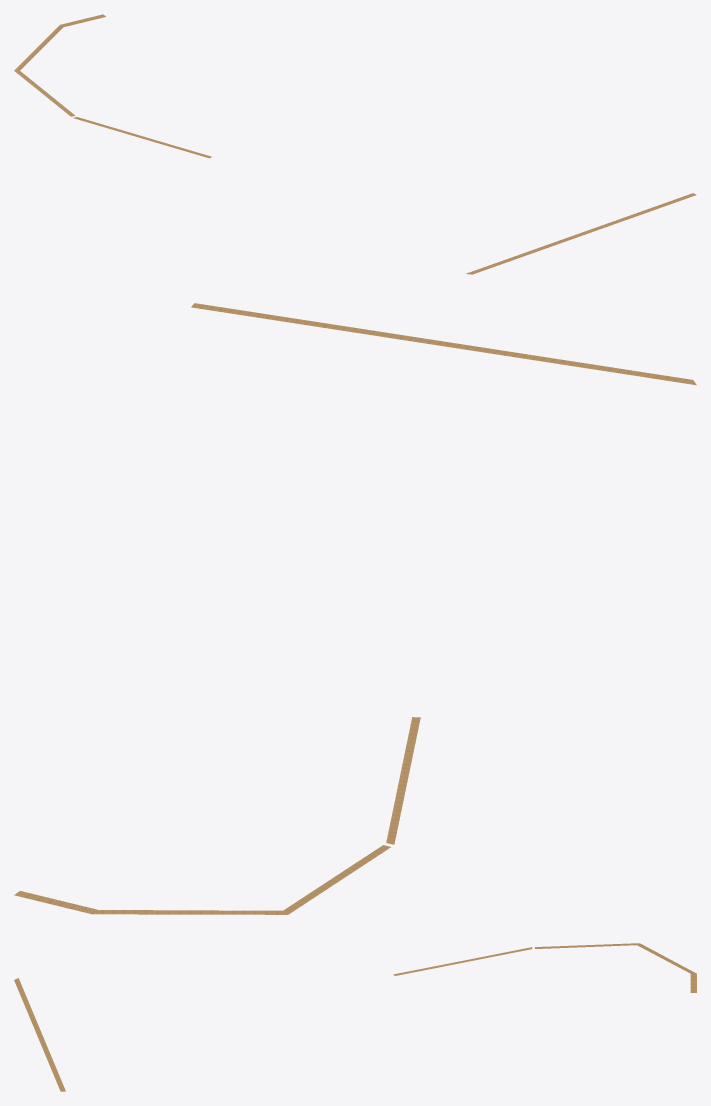
File: kd_stage_13612f_3_41_bounded.glb
The picture shows the model from 3 angles, top to bottom: view 1: azimuth 30°, elevation 25°; view 2: azimuth 150°, elevation 25°; view 3: azimuth 270°, elevation 25°; orthographic projection. The views are drawn at different scales.
Parts seen in each view (by area): view 1: kd_stage_13612f_3_41_bounded; view 2: kd_stage_13612f_3_41_bounded; view 3: kd_stage_13612f_3_41_bounded.
Boxes of the visible parts, bbox=[...] form: kd_stage_13612f_3_41_bounded: bbox=[14, 14, 696, 274]; kd_stage_13612f_3_41_bounded: bbox=[14, 303, 696, 914]; kd_stage_13612f_3_41_bounded: bbox=[14, 943, 696, 1091].
Bounding box in the file's own units: 26.91 × 1.5 × 47.22.
1 material, 1 textured.
